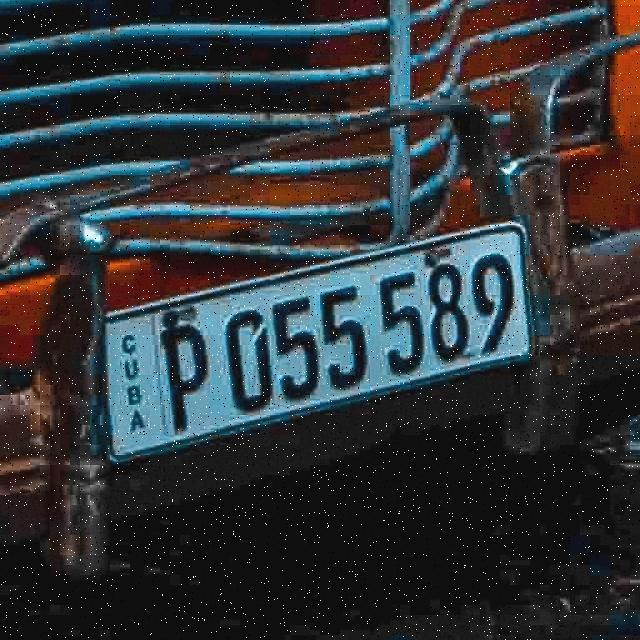LicensePlate: (94, 210, 564, 456)
